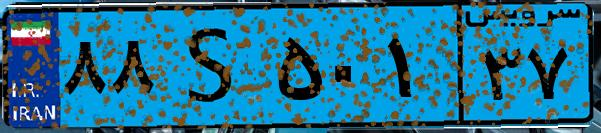0: (330, 28, 385, 110)
1: (385, 28, 445, 110)
3: (475, 38, 525, 113)
5: (270, 28, 330, 110)
7: (525, 38, 570, 115)
8: (57, 26, 110, 100), (110, 28, 158, 98)
S: (158, 12, 270, 120)
